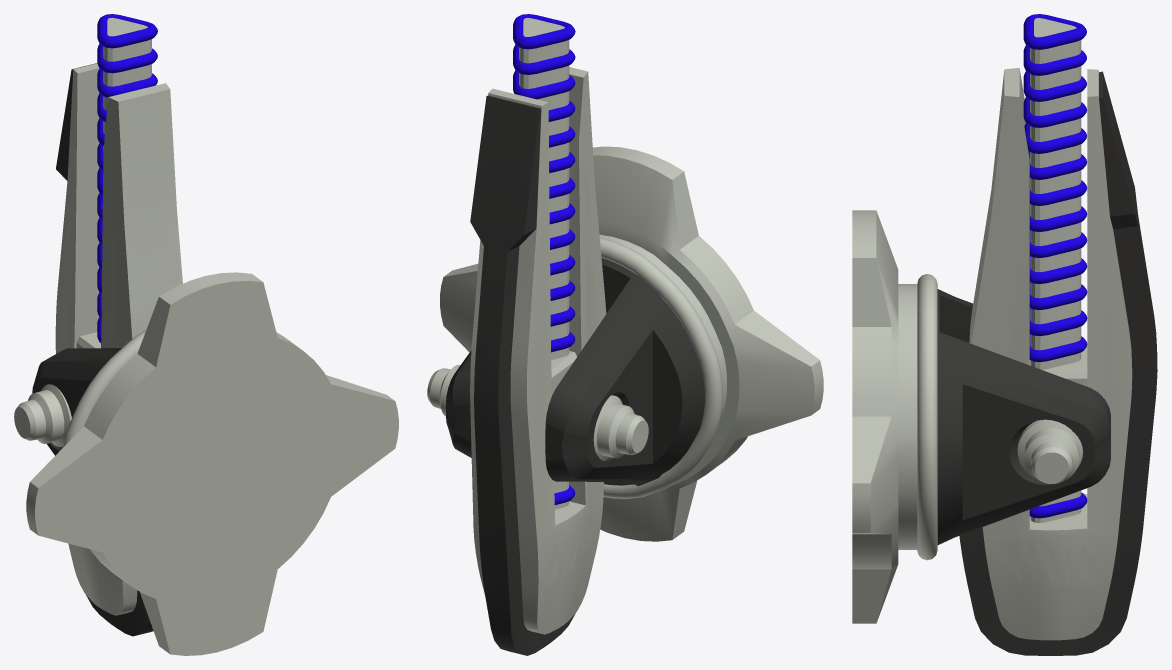
File: PlasmaCanon1.fbx
The picture shows the model from 3 angles, left to right: view 1: azimuth 30°, elevation 25°; view 2: azimuth 150°, elevation 25°; view 3: azimuth 270°, elevation 25°; orthographic projection. The views are drawn at different scales.
Parts seen in each view (by area): view 1: Cylinder.002, Cylinder.007, Cylinder.006_Curve, Cylinder.004, Cylinder.005, Cylinder.010, Cylinder.006, Cylinder.004_Curve; view 2: Cylinder.002, Cylinder.007, Cylinder.010, Cylinder.004, Cylinder.004_Curve, Cylinder.006_Curve, Cylinder.006, Cylinder.005; view 3: Cylinder.007, Cylinder.004, Cylinder.002, Cylinder.010, Cylinder.006_Curve, Cylinder.006, Cylinder.004_Curve, Cylinder.005, Cube.005.
Part boxes in pixels (x1=…): Cylinder.002: x1=26, y1=272, x2=398, y2=655; Cylinder.007: x1=55, y1=63, x2=182, y2=615; Cylinder.006_Curve: x1=97, y1=14, x2=157, y2=342; Cylinder.004: x1=32, y1=348, x2=121, y2=455; Cylinder.005: x1=14, y1=384, x2=71, y2=446; Cylinder.010: x1=56, y1=63, x2=153, y2=636; Cylinder.006: x1=103, y1=17, x2=151, y2=151; Cylinder.004_Curve: x1=63, y1=330, x2=146, y2=447; Cylinder.002: x1=440, y1=146, x2=823, y2=541; Cylinder.007: x1=470, y1=67, x2=606, y2=634; Cylinder.010: x1=470, y1=95, x2=575, y2=655; Cylinder.004: x1=446, y1=258, x2=704, y2=486; Cylinder.004_Curve: x1=599, y1=237, x2=722, y2=498; Cylinder.006_Curve: x1=513, y1=14, x2=575, y2=504; Cylinder.006: x1=519, y1=18, x2=569, y2=509; Cylinder.005: x1=427, y1=365, x2=648, y2=460; Cylinder.007: x1=969, y1=67, x2=1132, y2=640; Cylinder.004: x1=937, y1=289, x2=1110, y2=544; Cylinder.002: x1=852, y1=210, x2=917, y2=623; Cylinder.010: x1=959, y1=71, x2=1157, y2=655; Cylinder.006_Curve: x1=1023, y1=14, x2=1087, y2=518; Cylinder.006: x1=1030, y1=18, x2=1081, y2=522; Cylinder.004_Curve: x1=917, y1=274, x2=937, y2=560; Cylinder.005: x1=1017, y1=419, x2=1082, y2=483; Cube.005: x1=1029, y1=346, x2=1087, y2=386.
Size of the model in its own units: 1669 by 2615 by 1158.
